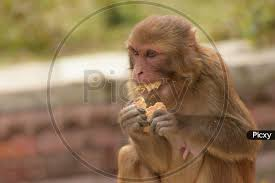monkey: (77, 26, 206, 146)
